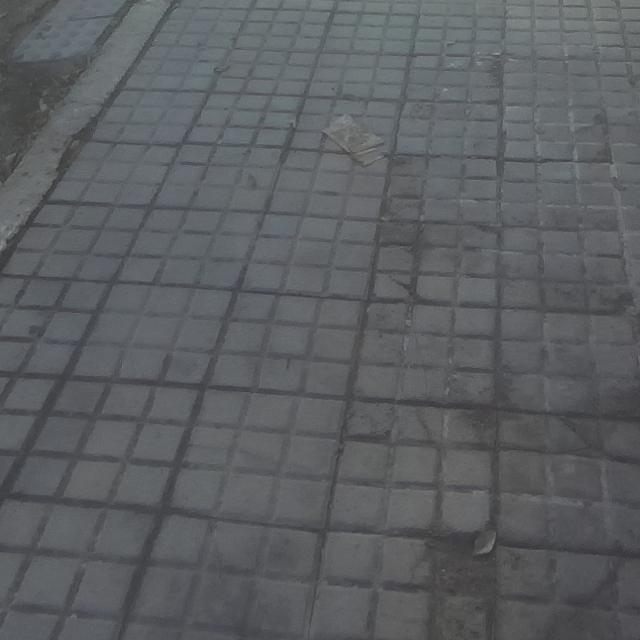calcada_quebrada: (556, 417, 624, 463)
